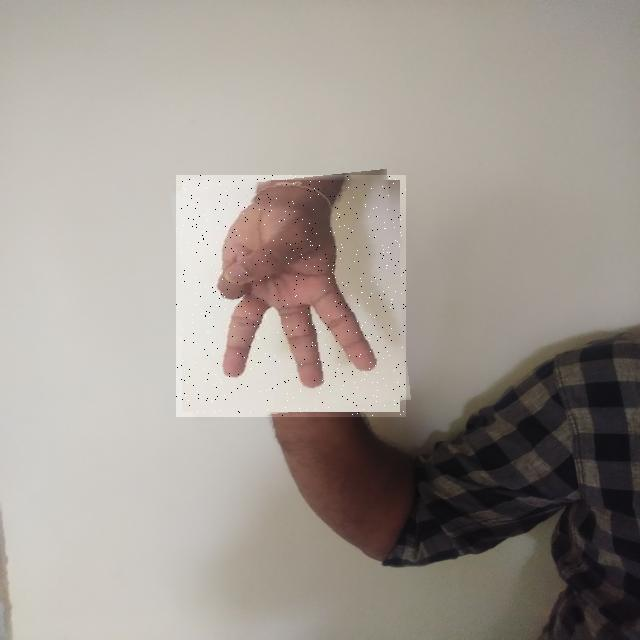Please: (176, 175, 406, 417)
